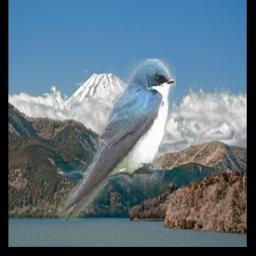Swallow: (59, 59, 177, 221)
